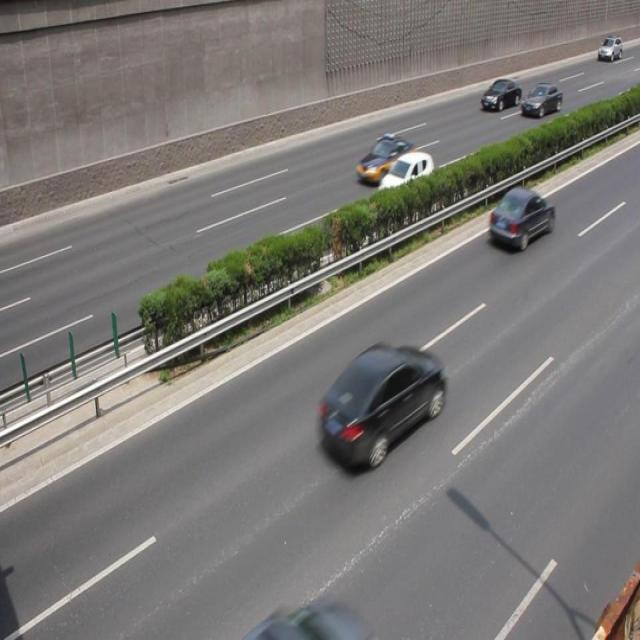car: (313, 341, 443, 473), (488, 186, 554, 251), (354, 133, 417, 187), (376, 153, 433, 208), (520, 81, 562, 120), (479, 76, 520, 112)
